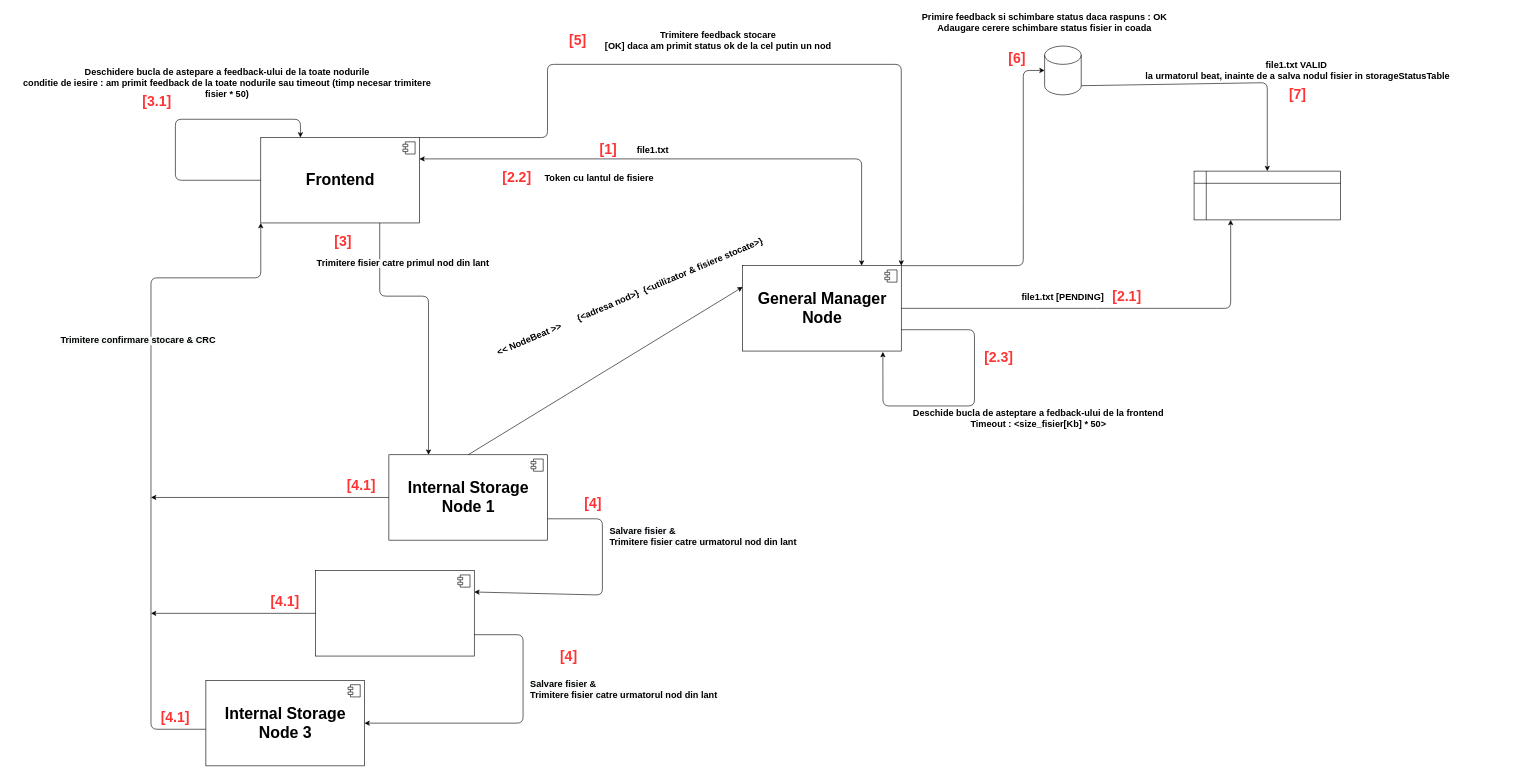
This 1524x777 diagram has some shape labels left out. Here are the shapes that lost their labels. From the top down, the centre of each, then its label:
At [1266,195]: "contentTable".
At [394,613]: "Internal Storage Node 2".
